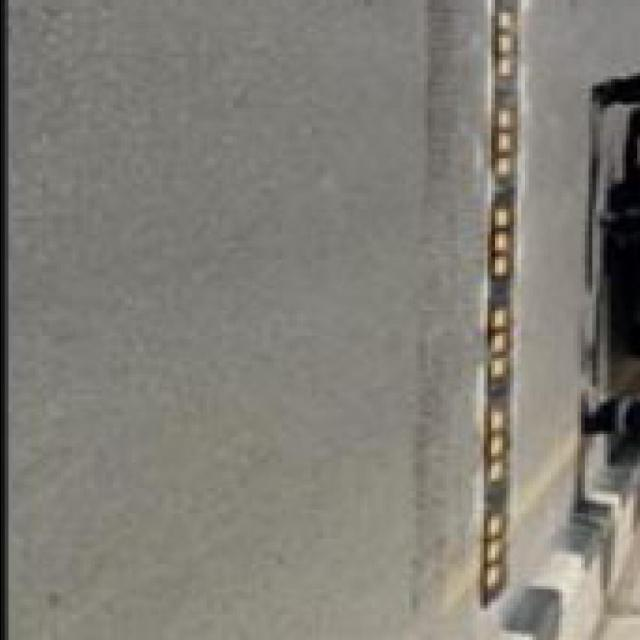speedbreaker: (479, 1, 523, 604)
